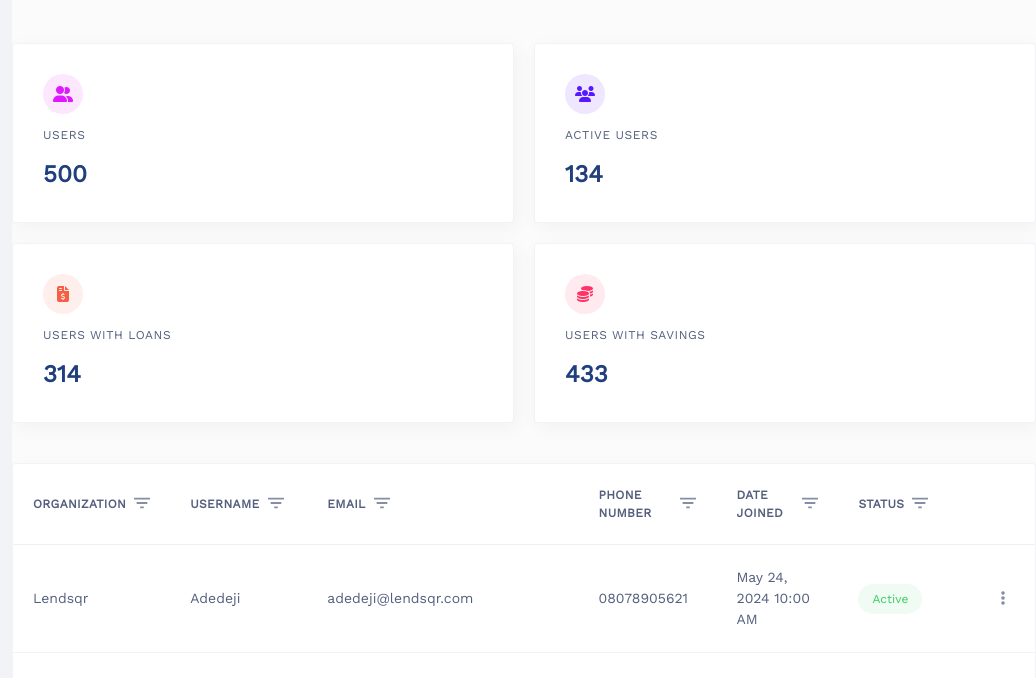
Test: Users Page › filter button toggles filter dropdown
// Click first filter button to open dropdown
Click the button named "filter". click: (142, 504)
box: [134,495,150,513]
(page scrolled)
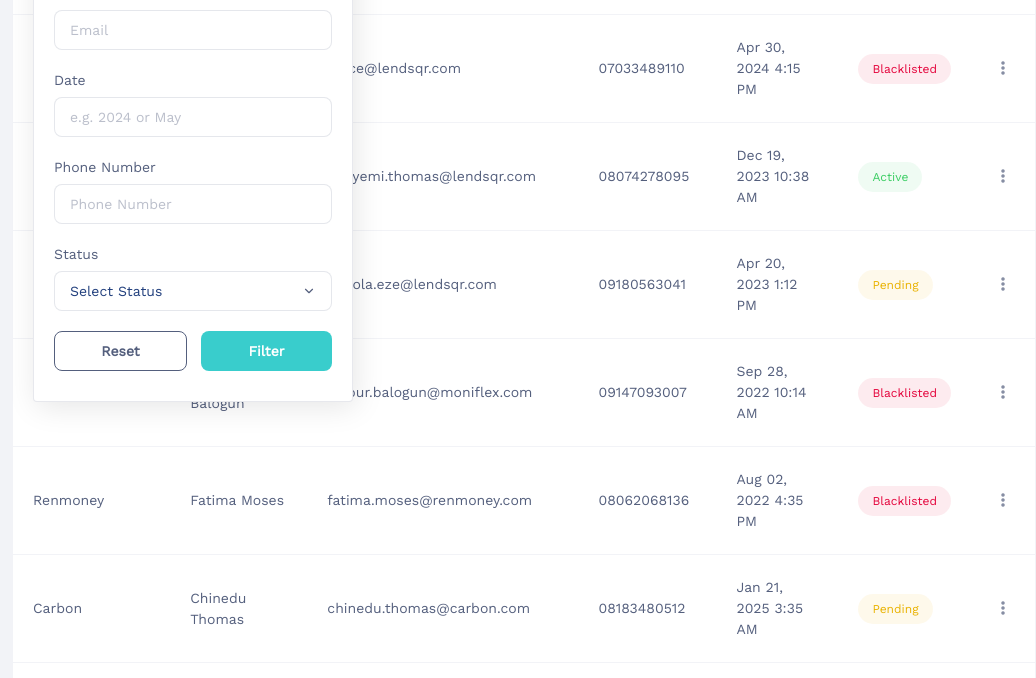
Check: the button "Reset" is shown, box [54,331,187,371]
